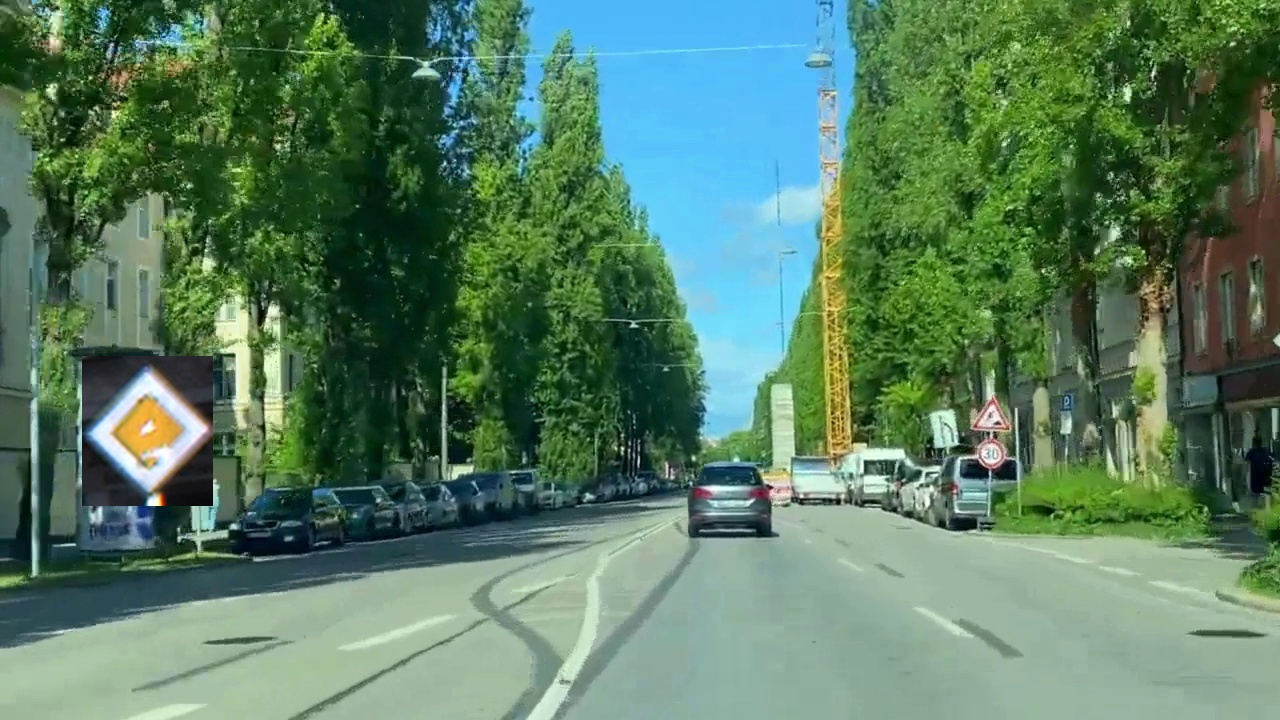Priority road: (82, 356, 213, 506)
